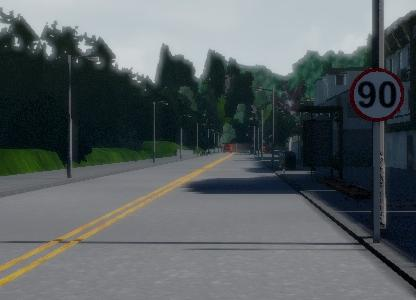Speed_90: (348, 62, 404, 126)
